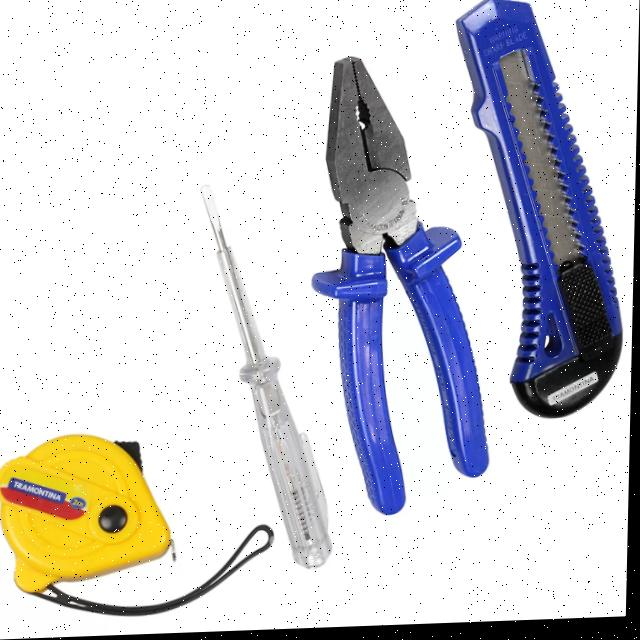Screwdriver: (203, 188, 334, 571)
